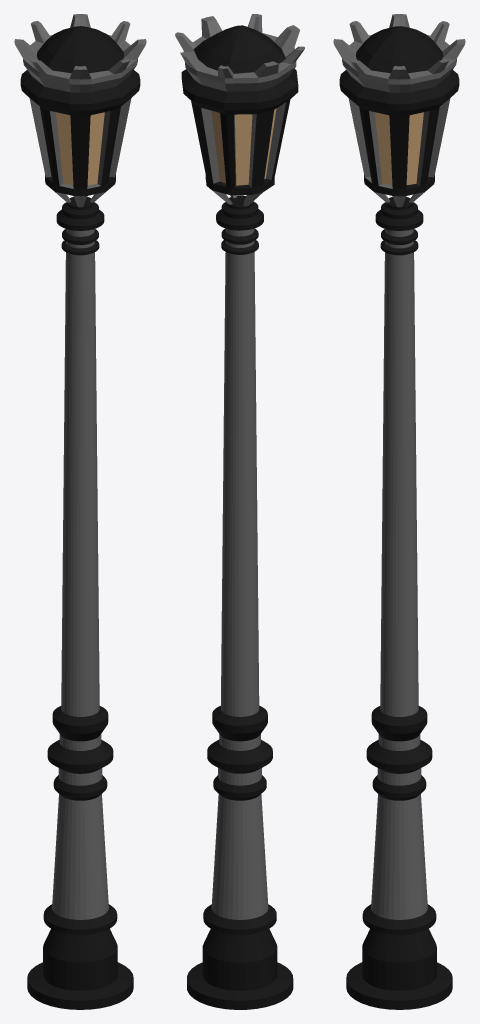
The model's file is streetlight.fbx.
The picture shows the model from 3 angles, left to right: view 1: azimuth 90°, elevation 25°; view 2: azimuth 210°, elevation 25°; view 3: azimuth 270°, elevation 25°; orthographic projection.
Visible parts, largest first — view 1: StreetlampPole, StreetlampHead; view 2: StreetlampPole, StreetlampHead; view 3: StreetlampPole, StreetlampHead.
Part boxes in pixels (x1,y1,x2,y2): StreetlampPole: (27, 196, 133, 1009); StreetlampHead: (14, 14, 146, 207); StreetlampPole: (187, 195, 293, 1009); StreetlampHead: (175, 14, 304, 206); StreetlampPole: (346, 196, 452, 1009); StreetlampHead: (333, 14, 465, 207).
Bounding box in the file's own units: 103 × 828 × 103.
